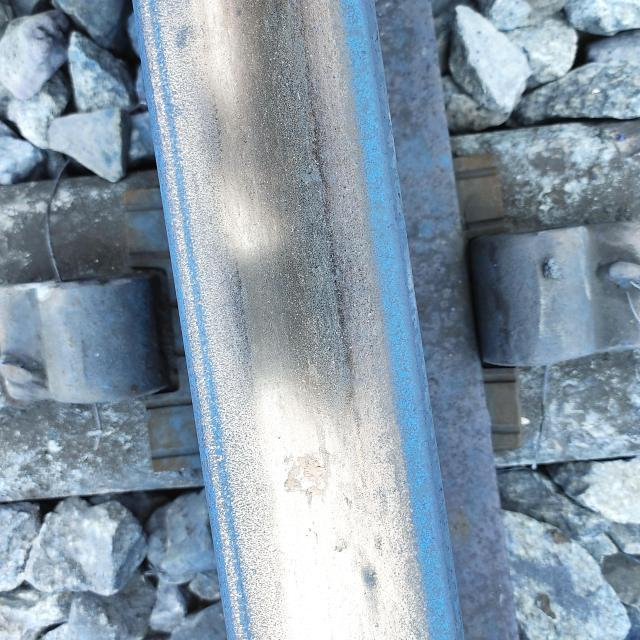Missing Fastener: (449, 191, 640, 411), (0, 236, 178, 433)
